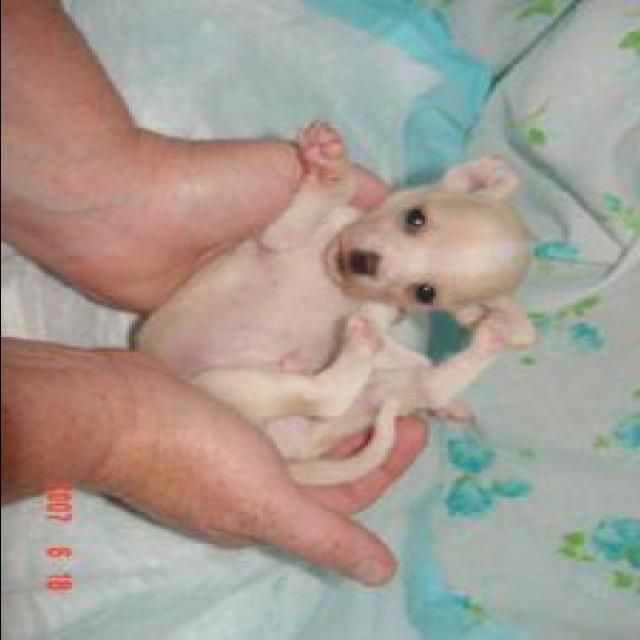chihuahua: (131, 126, 535, 488)
